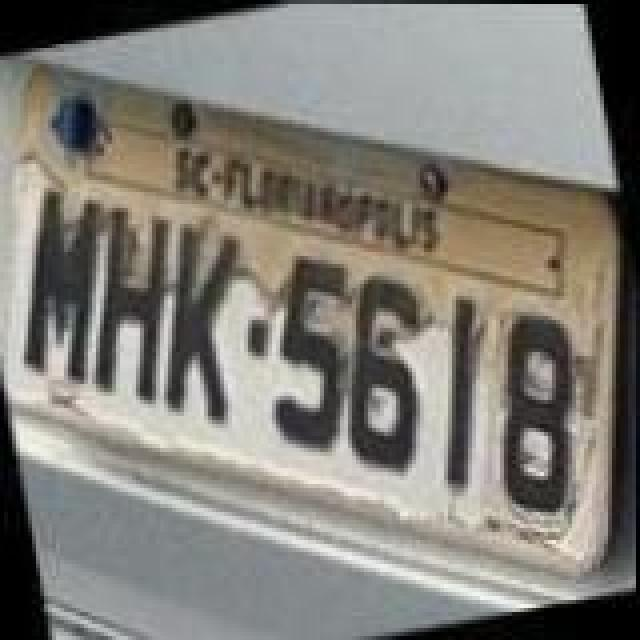1: (414, 290, 514, 494)
5: (242, 242, 378, 458)
6: (314, 260, 450, 476)
8: (470, 306, 602, 526)
H: (60, 192, 208, 416)
K: (132, 212, 272, 436)
M: (0, 172, 136, 392)
